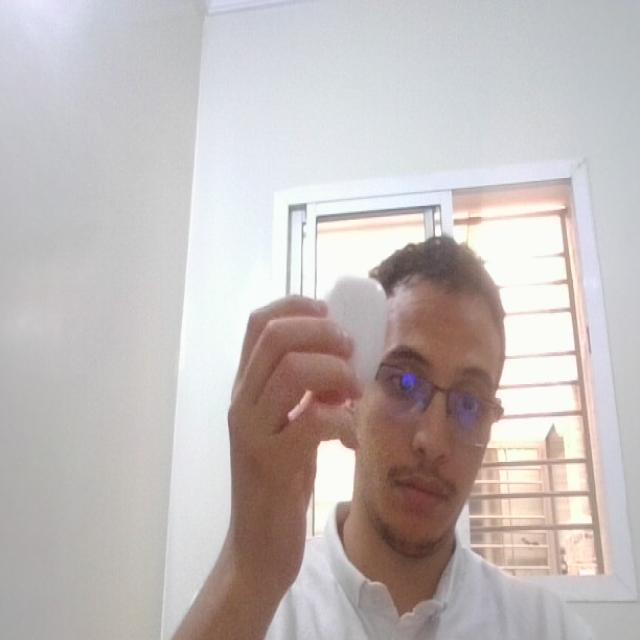airpods: (304, 252, 398, 423)
